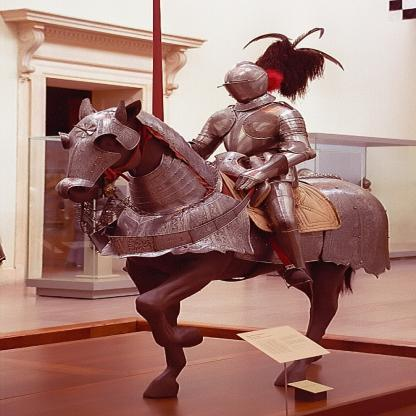Helmet: (228, 56, 276, 99)
